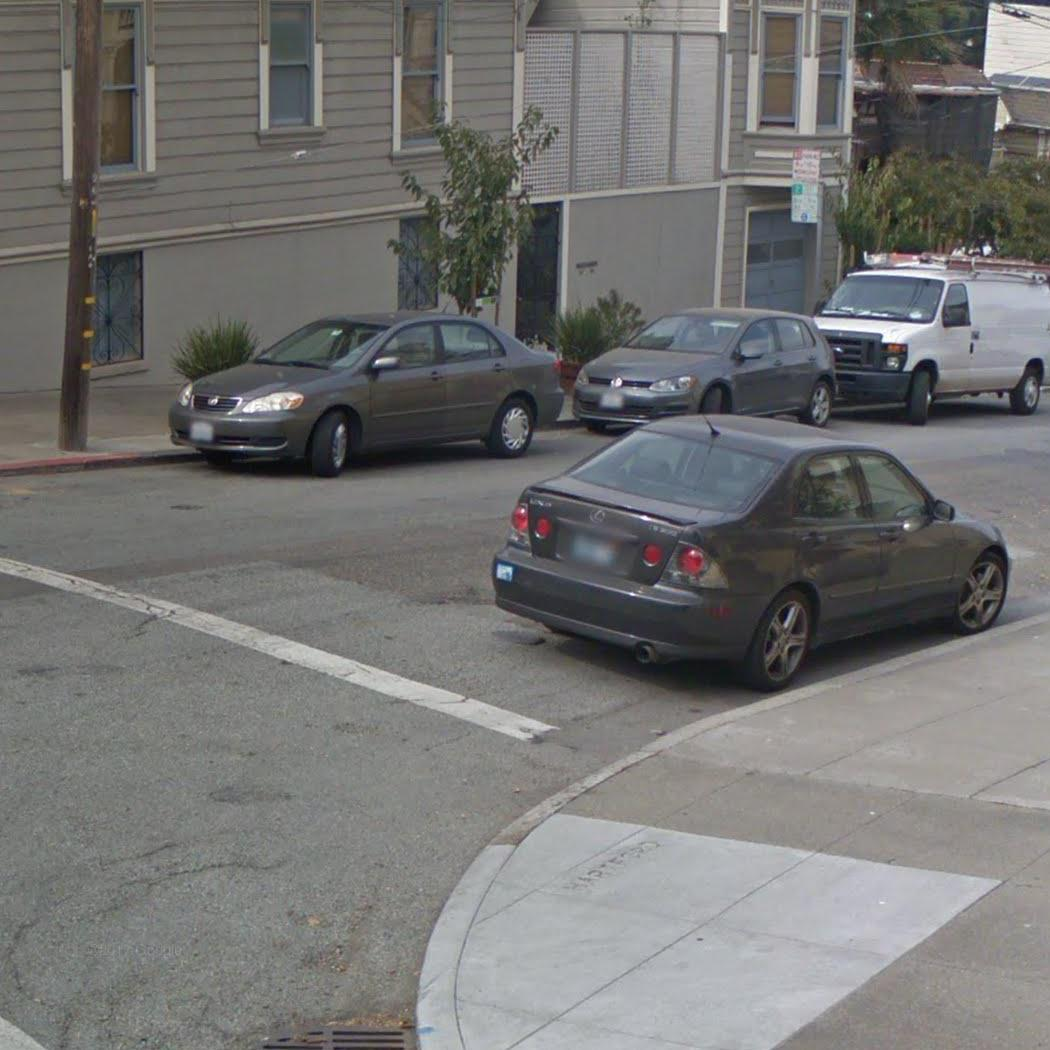2 Hour Parking: (791, 184, 819, 223)
No Parking: (792, 146, 819, 182)
